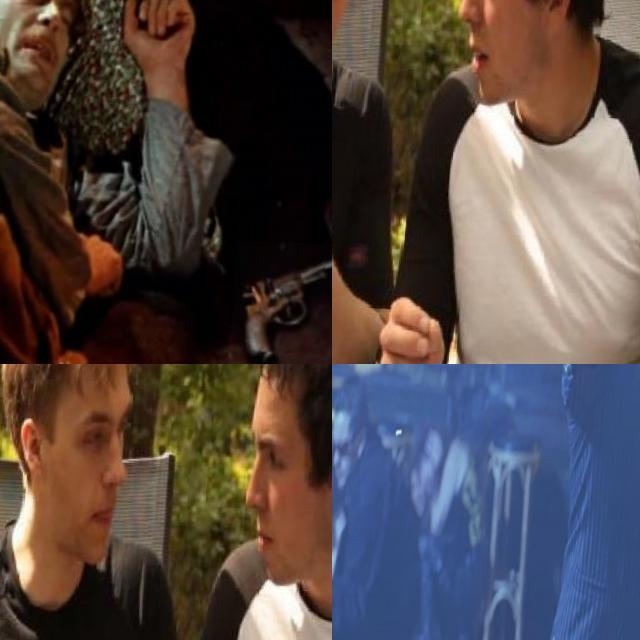-: (332, 271, 373, 364)
gun-knife-thesis - v11 Yolov5 augmented: (236, 235, 332, 364), (565, 364, 607, 438)
